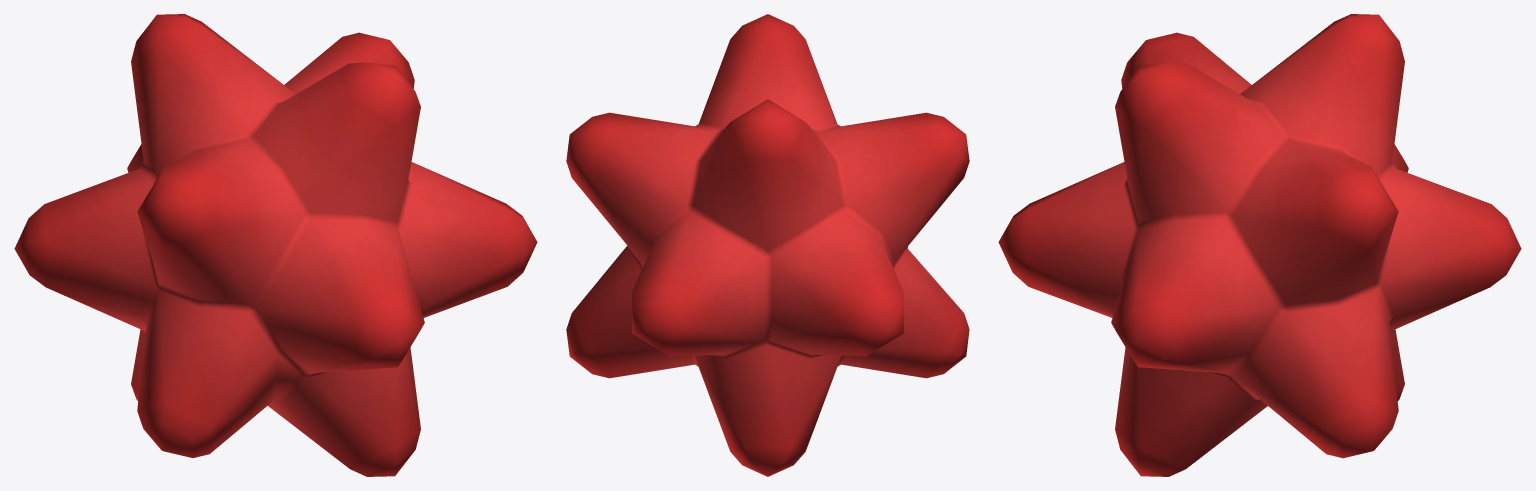
File: capricorn-fragment.glb
3 views of the same model, side by side, from view 1: azimuth 30°, elevation 25°; view 2: azimuth 150°, elevation 25°; view 3: azimuth 270°, elevation 25° (orthographic). The views are drawn at different scales.
Bounding box in the file's own units: 3.1 × 3.05 × 3.52.
1 material, 1 textured.
